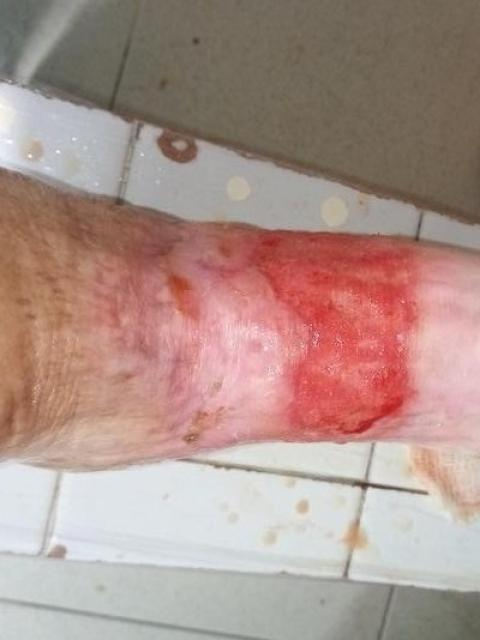wound: (236, 222, 424, 437), (164, 272, 200, 328)
